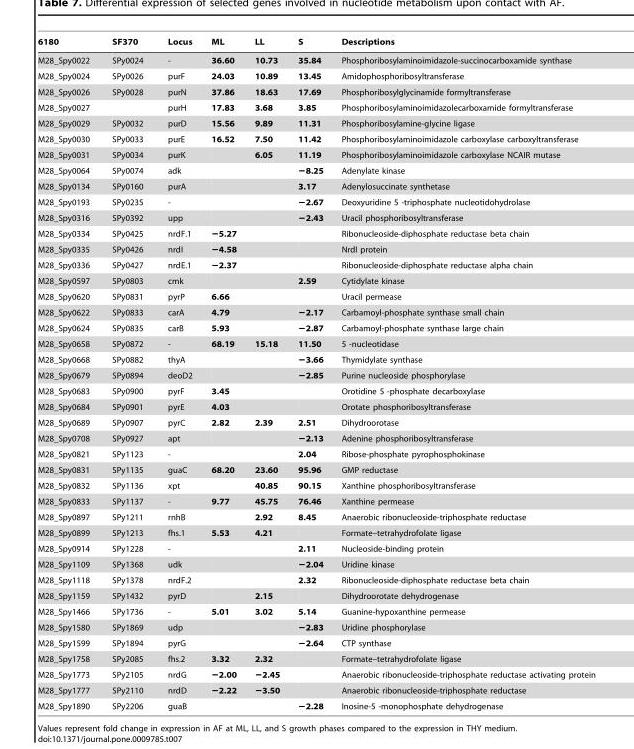table: (37, 37, 594, 710)
table column: (331, 37, 594, 710), (37, 37, 100, 710), (100, 37, 154, 710), (154, 37, 201, 710), (244, 37, 288, 710), (201, 37, 244, 710), (288, 37, 331, 710)
table column header: (37, 37, 594, 50)
table row: (37, 50, 594, 68), (37, 83, 594, 99), (37, 99, 594, 115), (37, 115, 594, 131), (37, 146, 594, 162), (37, 162, 594, 178), (37, 178, 594, 194), (37, 209, 594, 225), (37, 225, 594, 241), (37, 241, 594, 257), (37, 272, 594, 288), (37, 288, 594, 304), (37, 304, 594, 320), (37, 335, 594, 351), (37, 351, 594, 367), (37, 367, 594, 383), (37, 398, 594, 414), (37, 414, 594, 430), (37, 430, 594, 446), (37, 461, 594, 477), (37, 477, 594, 493), (37, 493, 594, 509), (37, 524, 594, 540), (37, 540, 594, 556), (37, 556, 594, 572), (37, 587, 594, 603), (37, 603, 594, 619), (37, 619, 594, 635), (37, 650, 594, 666), (37, 666, 594, 682), (37, 682, 594, 698), (37, 68, 594, 83), (37, 131, 594, 146), (37, 194, 594, 209), (37, 257, 594, 272), (37, 320, 594, 335), (37, 383, 594, 398), (37, 446, 594, 461), (37, 509, 594, 524), (37, 572, 594, 587), (37, 635, 594, 650), (37, 37, 594, 50), (37, 698, 594, 710)
